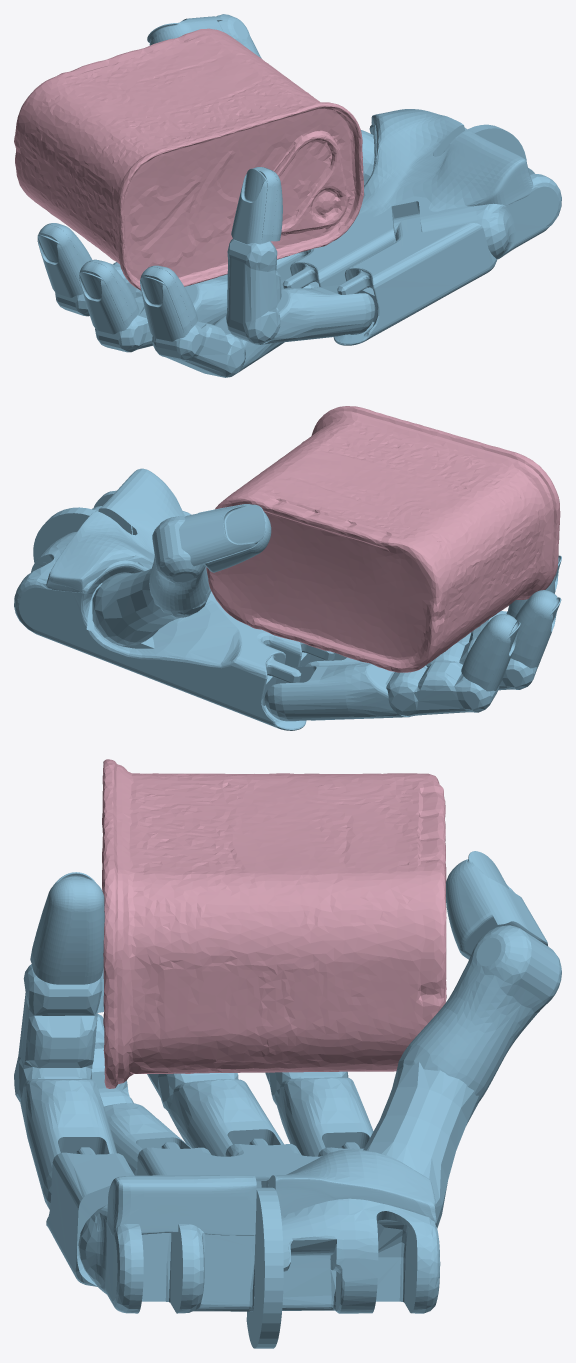
3 views of the same model, one above another, from view 1: azimuth 30°, elevation 25°; view 2: azimuth 150°, elevation 25°; view 3: azimuth 270°, elevation 25° (orthographic). The views are drawn at different scales.
Parts seen in each view (by area): view 1: world; view 2: world; view 3: world.
Boxes of the visible parts, x1,y1,x2,y2 form: world: [14, 14, 561, 377]; world: [14, 406, 561, 730]; world: [14, 759, 561, 1348].
Size of the model in its own units: 0.1997 by 0.0999 by 0.1328.
